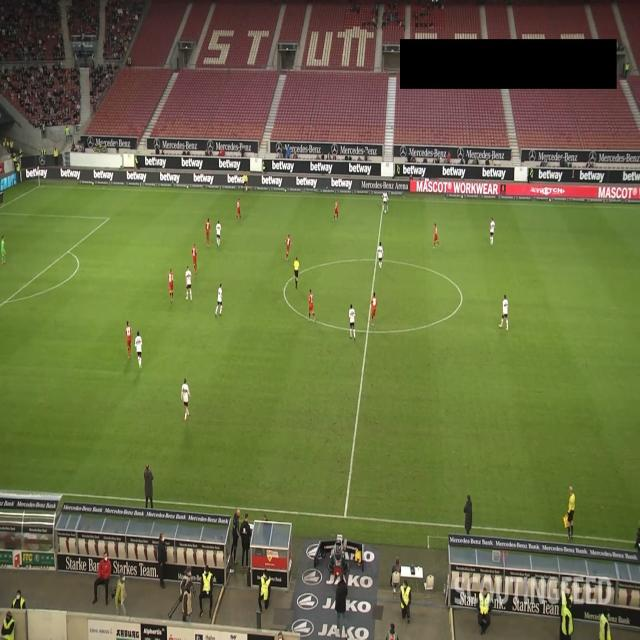ball: (384, 209, 387, 214)
